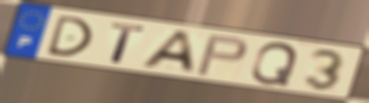3: (303, 48, 349, 92)
A: (137, 29, 198, 75)
D: (43, 14, 95, 58)
P: (193, 33, 250, 78)
Q: (249, 41, 301, 88)
T: (108, 21, 149, 66)
